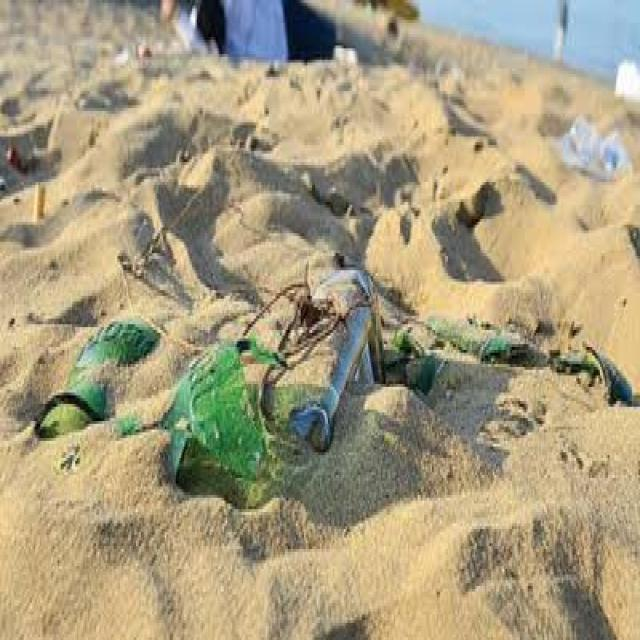glass: (254, 253, 435, 472), (163, 349, 296, 536), (51, 320, 185, 446)
